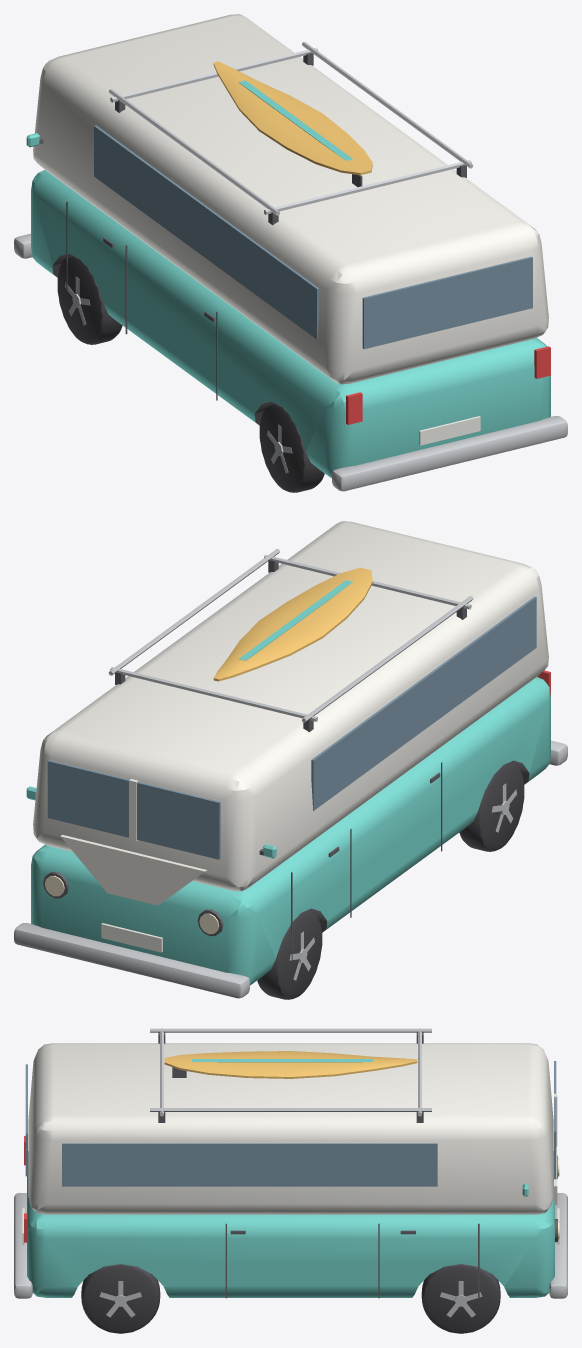
File: car_surfvan.glb
3 renders of one model, top to bottom at view 1: azimuth 30°, elevation 25°; view 2: azimuth 150°, elevation 25°; view 3: azimuth 270°, elevation 25°, orthographic. The views are drawn at different scales.
Parts seen in each view (by area): view 1: body, surfboard, wheel_rl, wheel_fl; view 2: body, surfboard, wheel_rl, wheel_fl; view 3: body, surfboard, wheel_rr, wheel_fr.
Boxes of the visible parts, x1,y1,x2,y2 form: body: (14, 14, 567, 491); surfboard: (213, 61, 372, 187); wheel_rl: (259, 402, 324, 492); wheel_fl: (57, 254, 122, 344); body: (14, 521, 567, 998); surfboard: (213, 567, 372, 681); wheel_rl: (459, 761, 524, 851); wheel_fl: (257, 909, 322, 999); body: (14, 1028, 567, 1298); surfboard: (164, 1051, 417, 1078); wheel_rr: (81, 1264, 160, 1333); wheel_fr: (421, 1264, 500, 1333).
Bounding box in the file's own units: 2.06 × 2.16 × 4.72.
